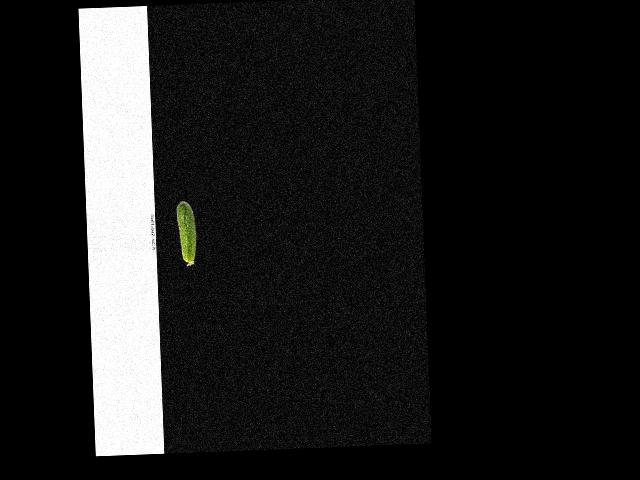cucumber: (176, 200, 197, 266)
